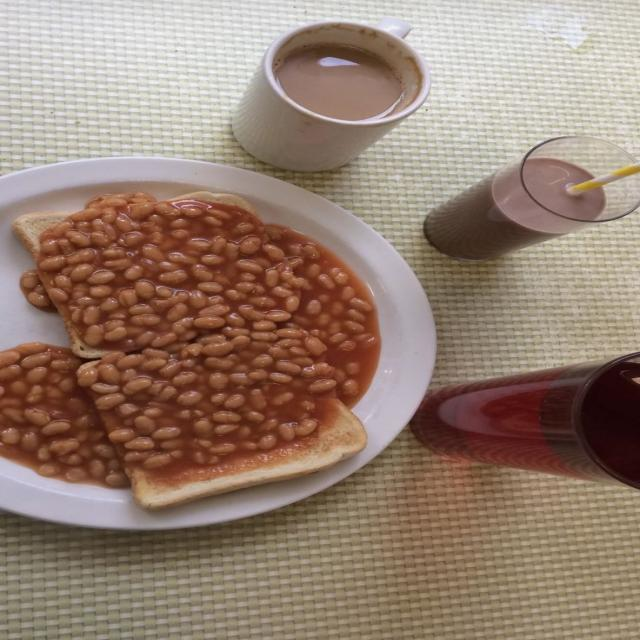sliced_bread: (132, 400, 366, 508), (13, 212, 71, 262), (65, 320, 105, 358), (183, 192, 255, 213)
